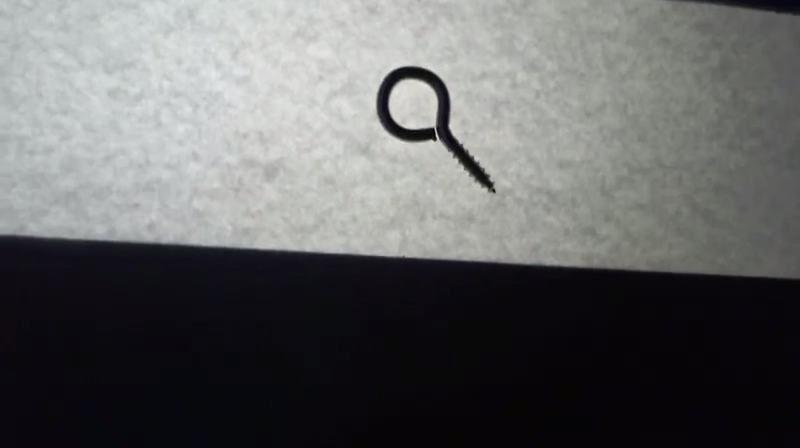O001: (371, 63, 500, 195)
